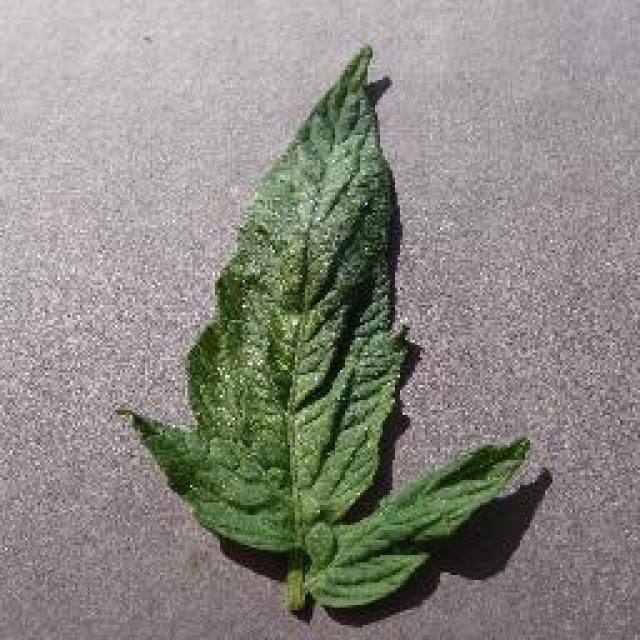Tomato___Spider_mites Two-spotted_spider_mite: (122, 48, 528, 610)
